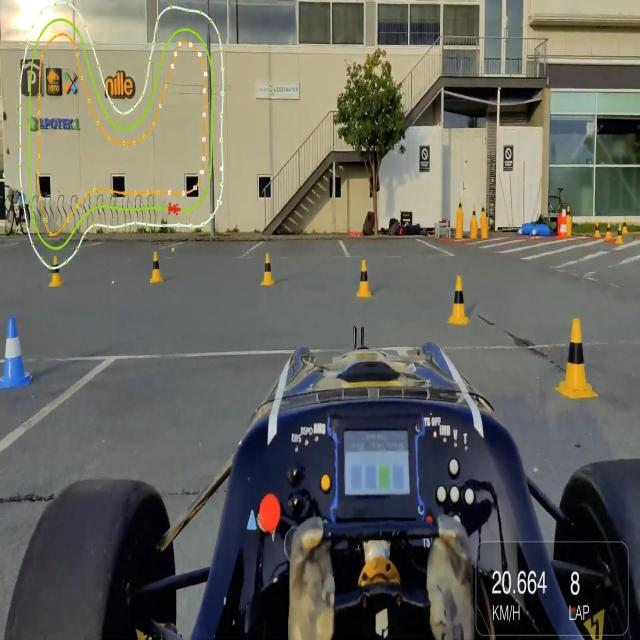blue_cone: (1, 316, 33, 389)
large_orange_cone: (559, 206, 567, 238)
yellow_cone: (554, 314, 599, 403), (446, 272, 471, 326), (355, 255, 373, 299), (149, 247, 165, 287), (260, 251, 276, 288), (50, 255, 62, 290), (456, 198, 463, 218), (470, 206, 477, 223), (481, 201, 486, 221)
